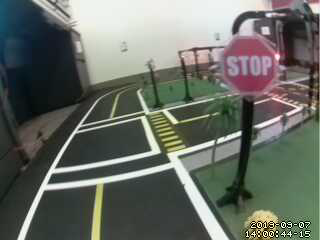Stop_Sign: (213, 32, 286, 100)
